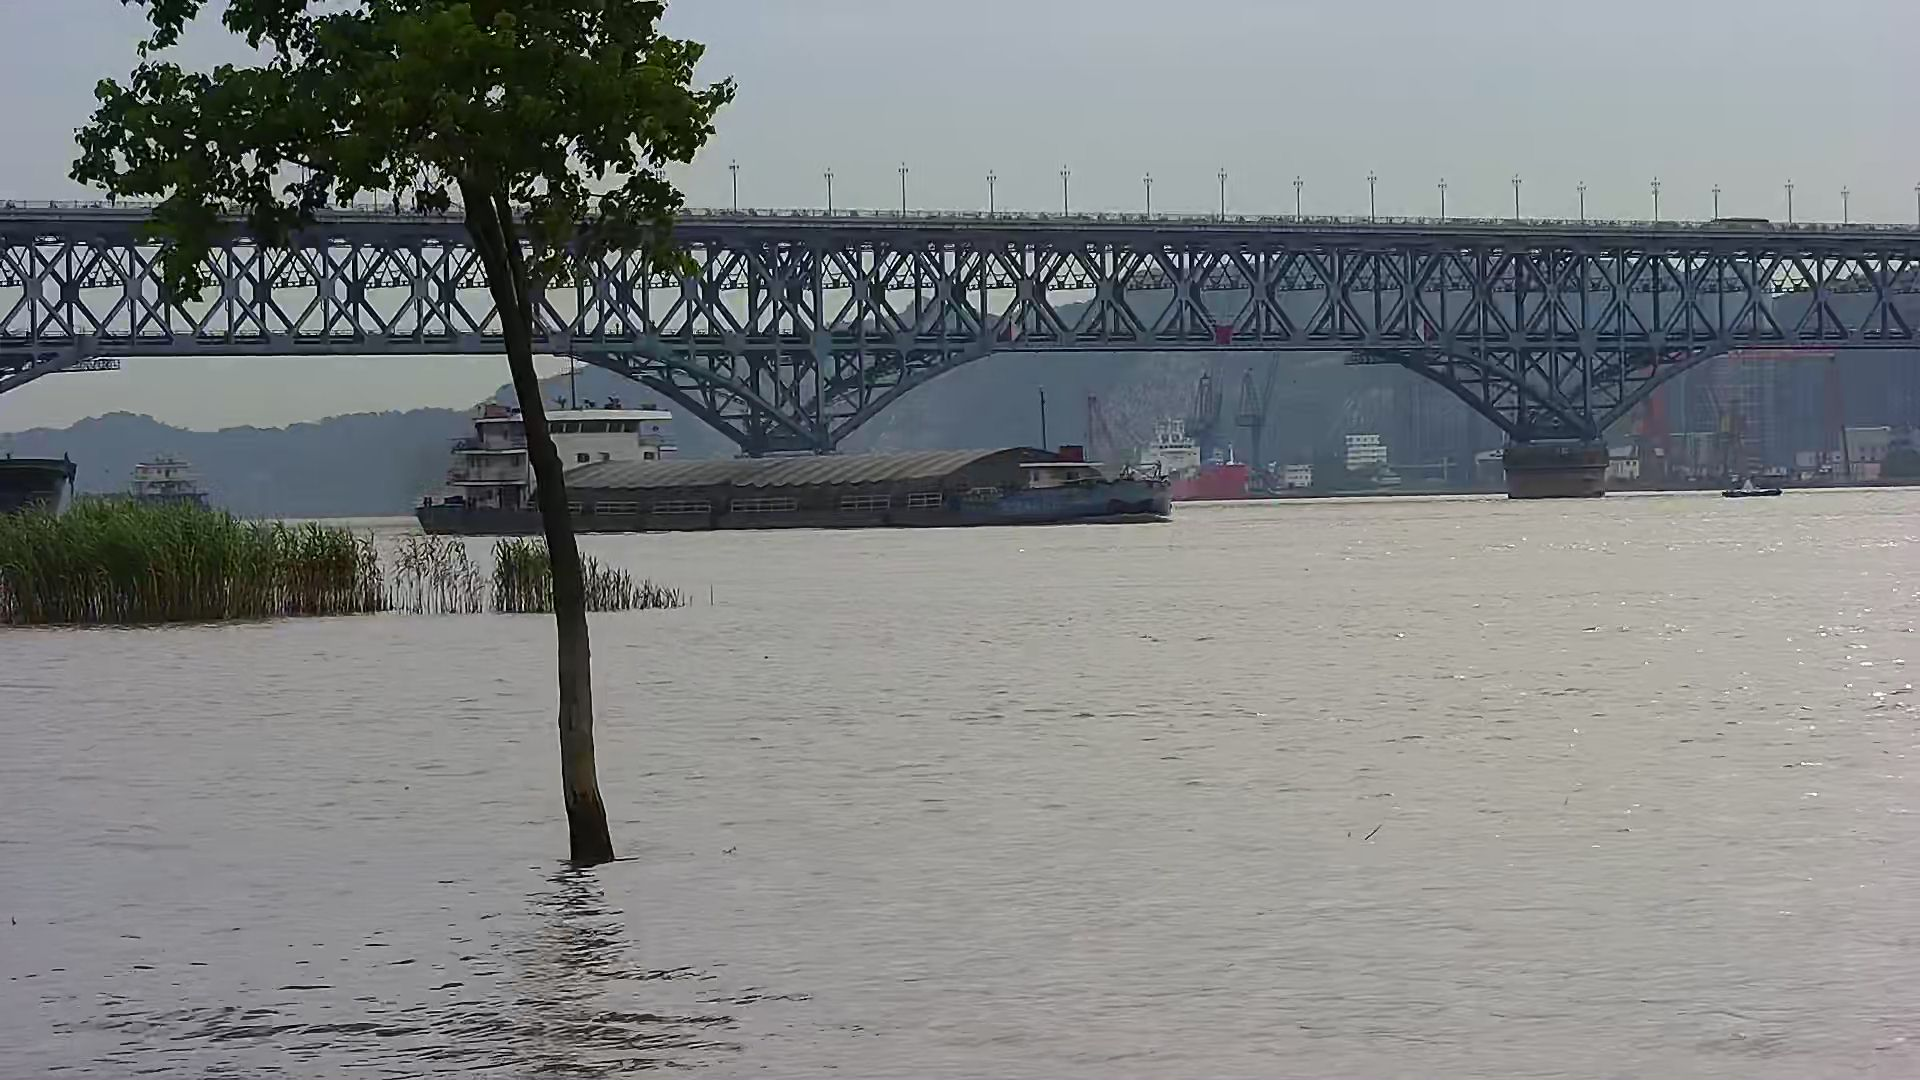boat: (1708, 472, 1801, 508)
bridge: (1, 152, 1920, 530)
grass: (1, 501, 702, 630)
ship: (411, 368, 1204, 534), (1117, 413, 1292, 512), (82, 443, 245, 527)
tree: (62, 1, 757, 878)
